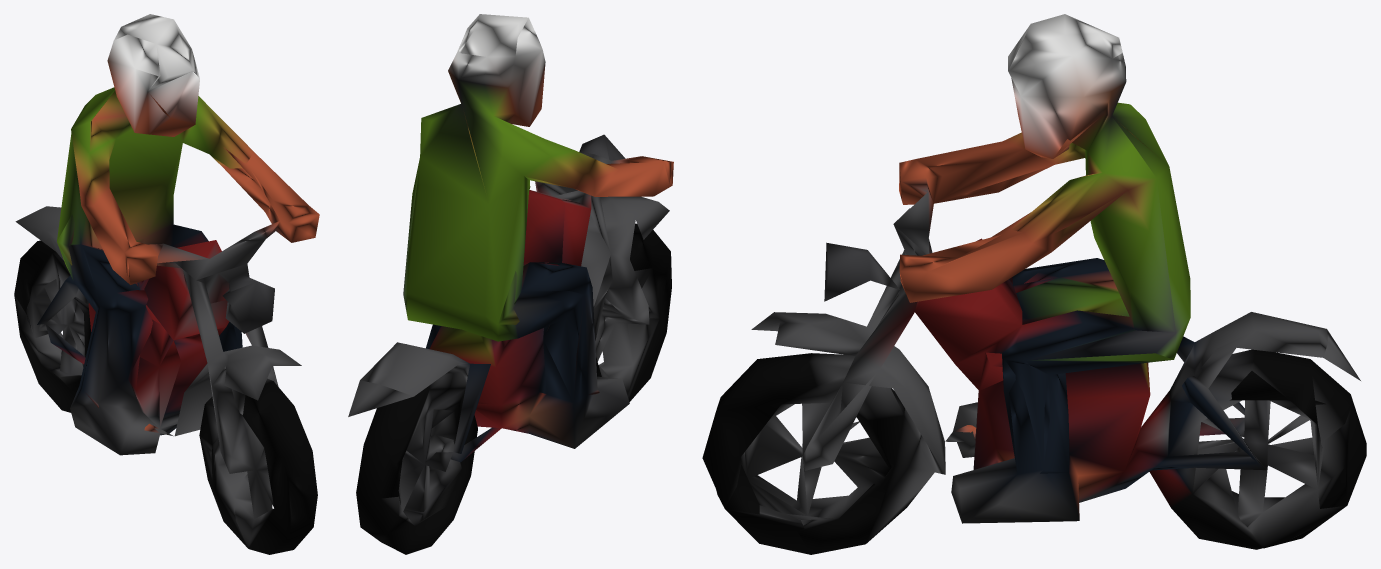
The model's file is gen3d-rider-lod1.glb.
3 renders of one model, left to right at view 1: azimuth 30°, elevation 25°; view 2: azimuth 150°, elevation 25°; view 3: azimuth 270°, elevation 25°, orthographic. The views are drawn at different scales.
Visible parts, largest first — view 1: part_0; view 2: part_0; view 3: part_0.
Part boxes in pixels (x1=…): part_0: x1=14, y1=14, x2=319, y2=554; part_0: x1=348, y1=14, x2=673, y2=554; part_0: x1=702, y1=14, x2=1366, y2=554.
Size of the model in its own units: 0.4509 by 0.9964 by 1.14.
